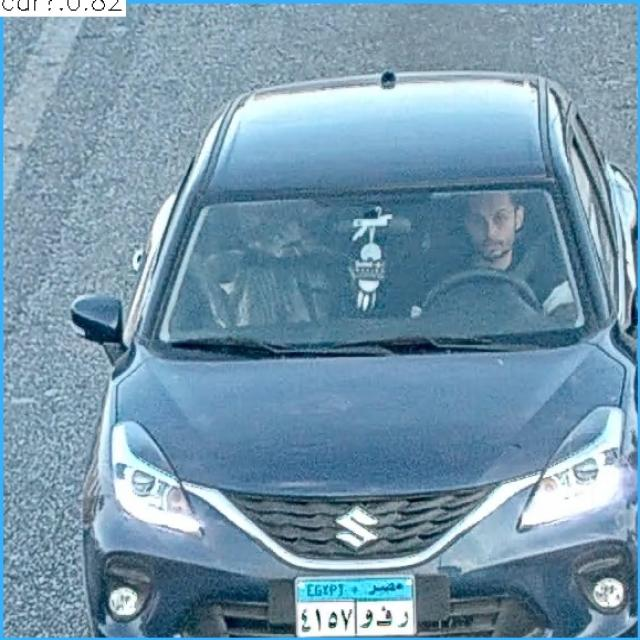windshield: (149, 195, 585, 351)
